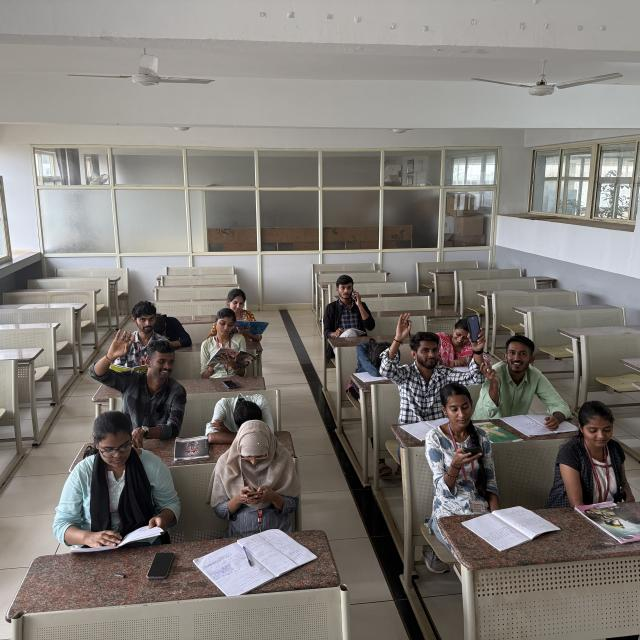Hand Rising: (88, 325, 189, 422), (381, 309, 446, 419)
Reading: (62, 414, 180, 555), (199, 310, 253, 378), (220, 288, 274, 341)
Sleeping: (204, 389, 278, 444), (346, 339, 400, 376), (150, 304, 194, 346)
Using Phone: (421, 384, 499, 510), (210, 425, 302, 531), (321, 270, 377, 336)
